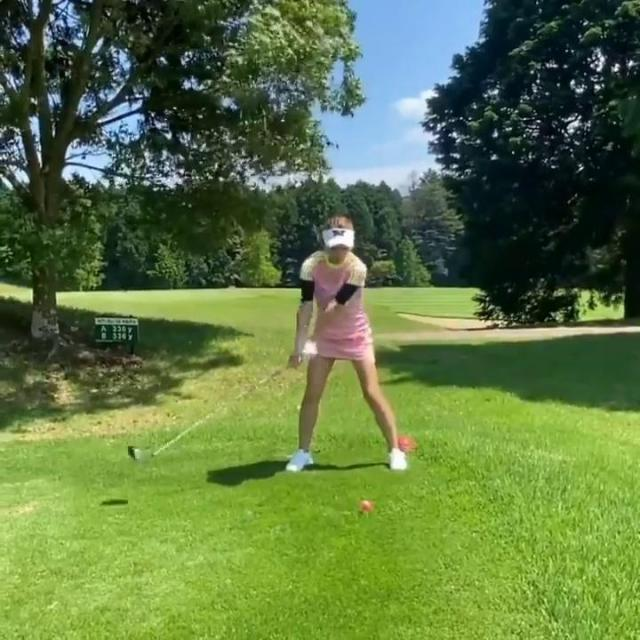golf ball: (361, 501, 374, 516)
golf club-handle: (128, 356, 300, 470)
golf club-head: (130, 445, 145, 460)
